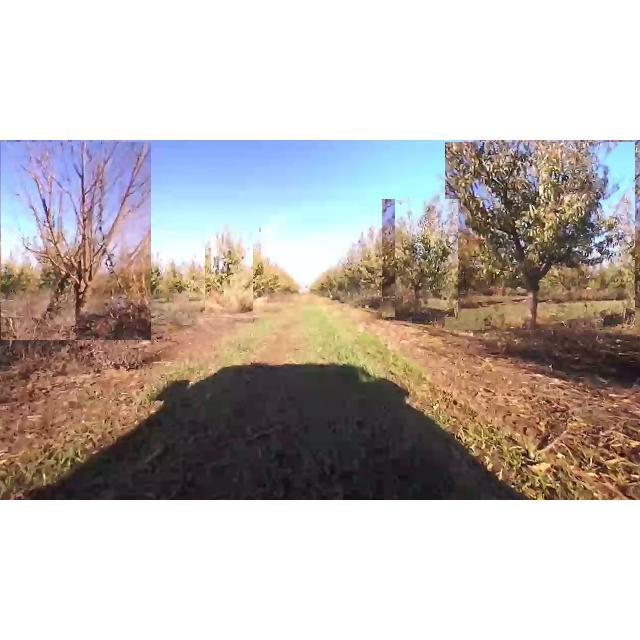direk: (445, 142, 635, 330), (1, 142, 151, 340), (382, 199, 458, 317), (205, 220, 253, 318)
